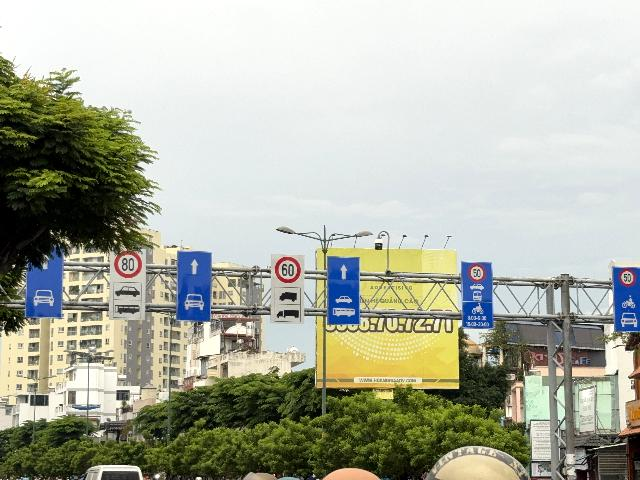toc-do-toi-da-cho-phep: (113, 250, 142, 279), (275, 256, 302, 283), (468, 263, 486, 283), (619, 269, 636, 285)
